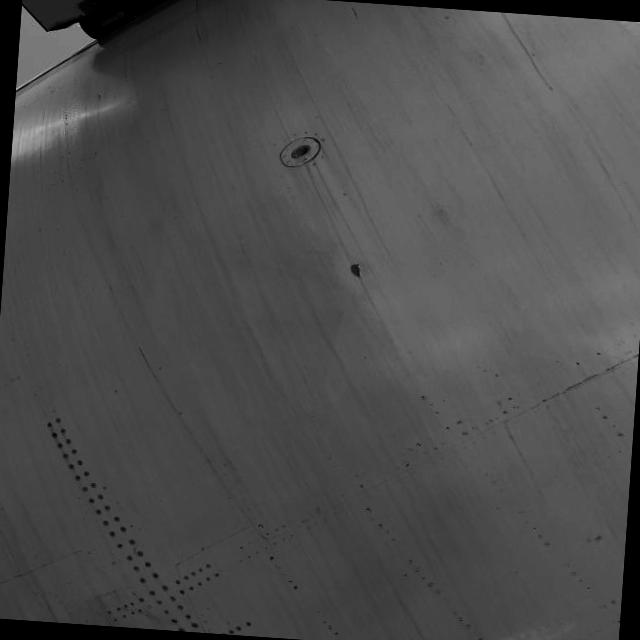crack: (130, 345, 161, 375), (347, 262, 367, 281)
